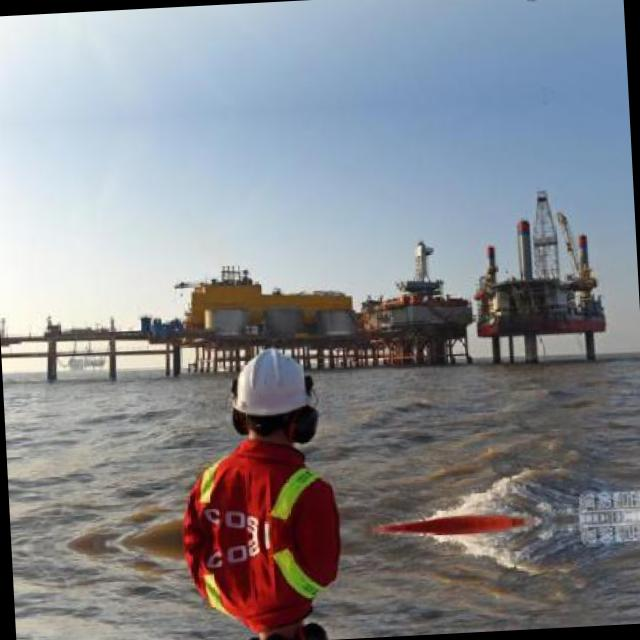helmet: (225, 336, 325, 458), (238, 610, 335, 640)
